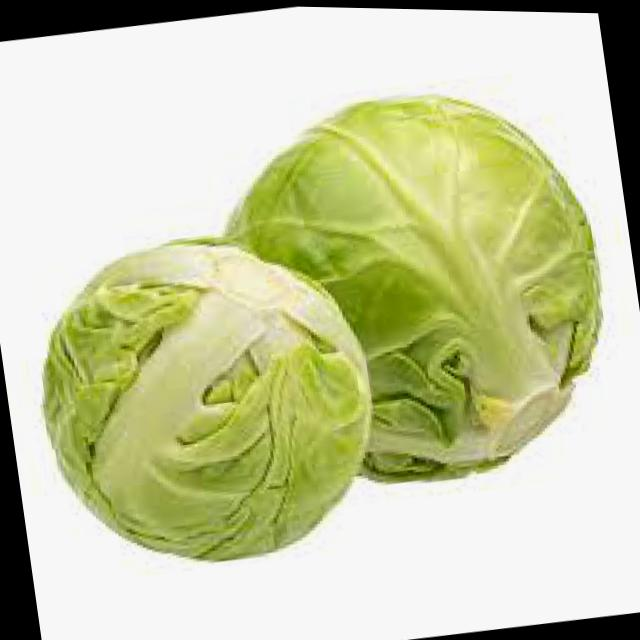Cabbage: (206, 64, 628, 508), (19, 207, 394, 583)
